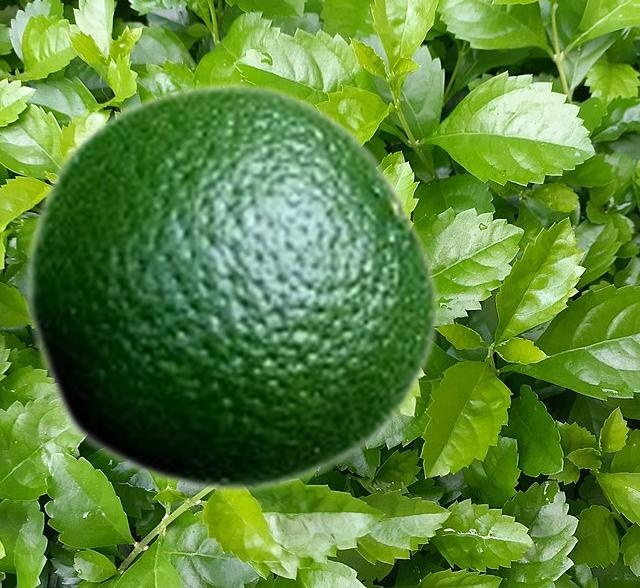calamansi: (22, 80, 441, 495)
